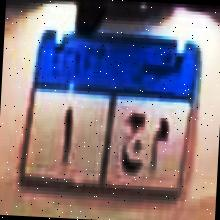1: (58, 103, 74, 163)
jeem: (118, 109, 146, 181)
meem: (148, 112, 169, 181)
